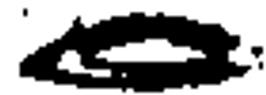Mouth: (17, 11, 253, 89)
